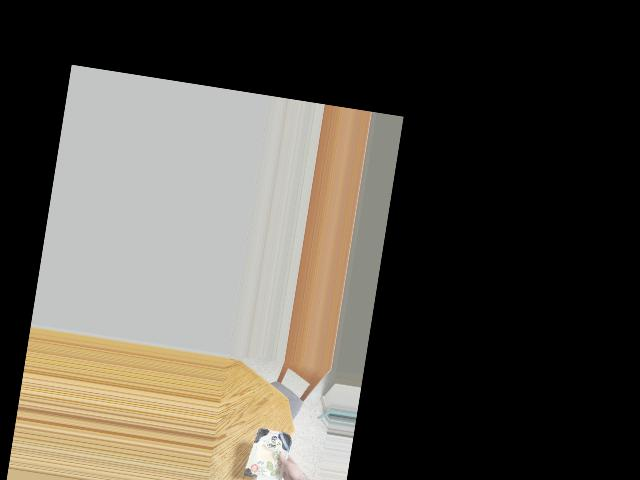cheese: (242, 419, 296, 480)
